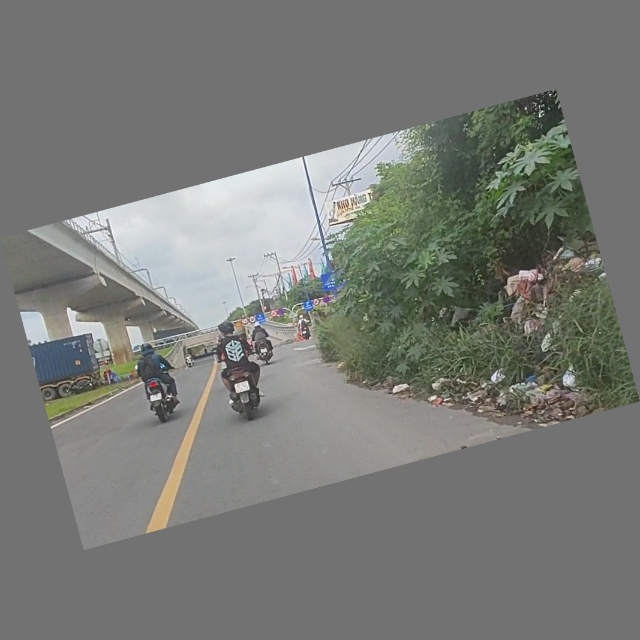P.107: (268, 309, 279, 319), (311, 298, 321, 307)
P.117*: (241, 318, 249, 326)
P.127*40: (249, 316, 257, 325)
P.130: (322, 295, 331, 305), (277, 308, 286, 316)
